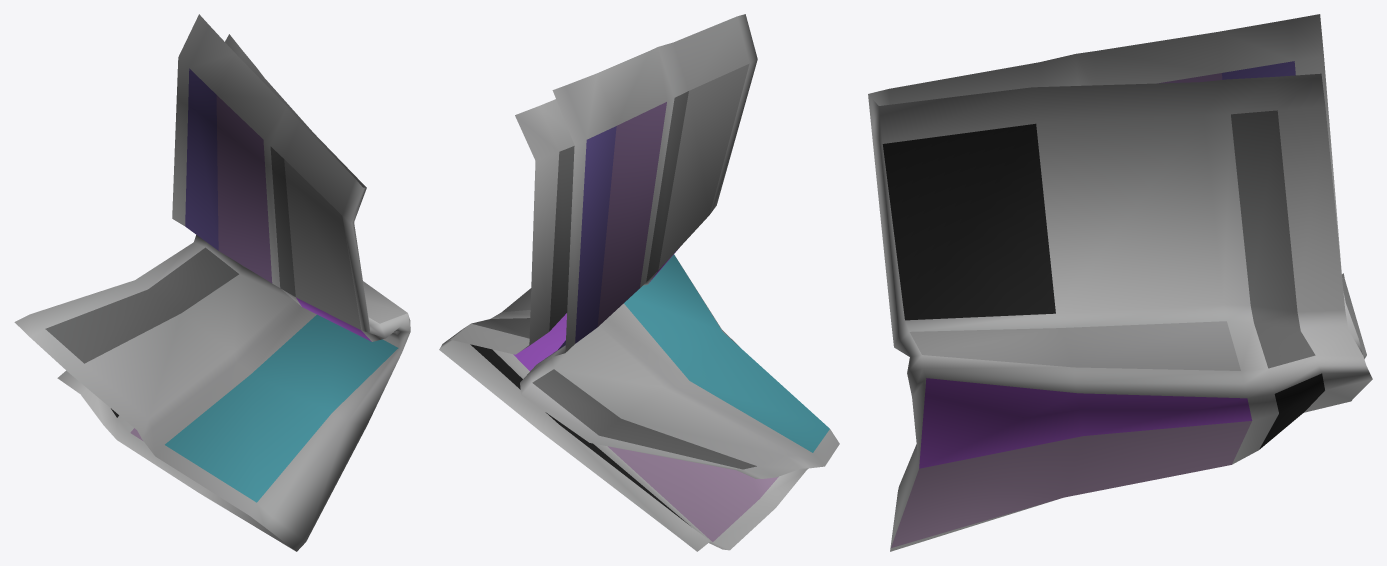
Rendered from furnishings-trash-oldnewspaper_v3.glb.
3 views of the same model, side by side, from view 1: azimuth 30°, elevation 25°; view 2: azimuth 150°, elevation 25°; view 3: azimuth 270°, elevation 25° (orthographic). The views are drawn at different scales.
Visible parts, largest first — view 1: OldNewspaper_v3; view 2: OldNewspaper_v3; view 3: OldNewspaper_v3.
Boxes of the visible parts, x1,y1,x2,y2 form: OldNewspaper_v3: (14, 14, 410, 551); OldNewspaper_v3: (439, 14, 839, 551); OldNewspaper_v3: (868, 14, 1372, 551).
Size of the model in its own units: 0.00843 by 0.0131 by 0.0104.
